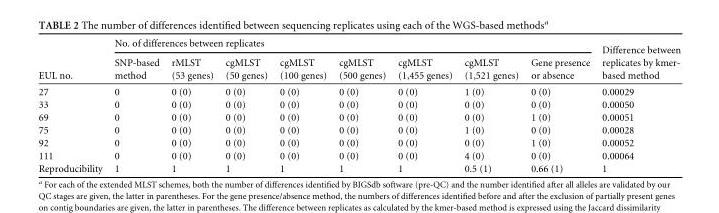table: (37, 37, 680, 173)
table column: (595, 37, 680, 173), (524, 37, 595, 173), (37, 37, 107, 173), (457, 37, 524, 173), (391, 37, 457, 173), (273, 37, 332, 173), (332, 37, 391, 173), (107, 37, 164, 173), (218, 37, 273, 173), (164, 37, 218, 173)
table column header: (37, 37, 680, 83)
table row: (37, 52, 680, 83), (37, 37, 680, 52), (37, 83, 680, 97), (37, 97, 680, 110), (37, 110, 680, 123), (37, 123, 680, 136), (37, 148, 680, 161), (37, 136, 680, 148), (37, 161, 680, 173)
table spanning cell: (107, 37, 595, 52), (595, 37, 680, 83), (37, 37, 107, 83)
